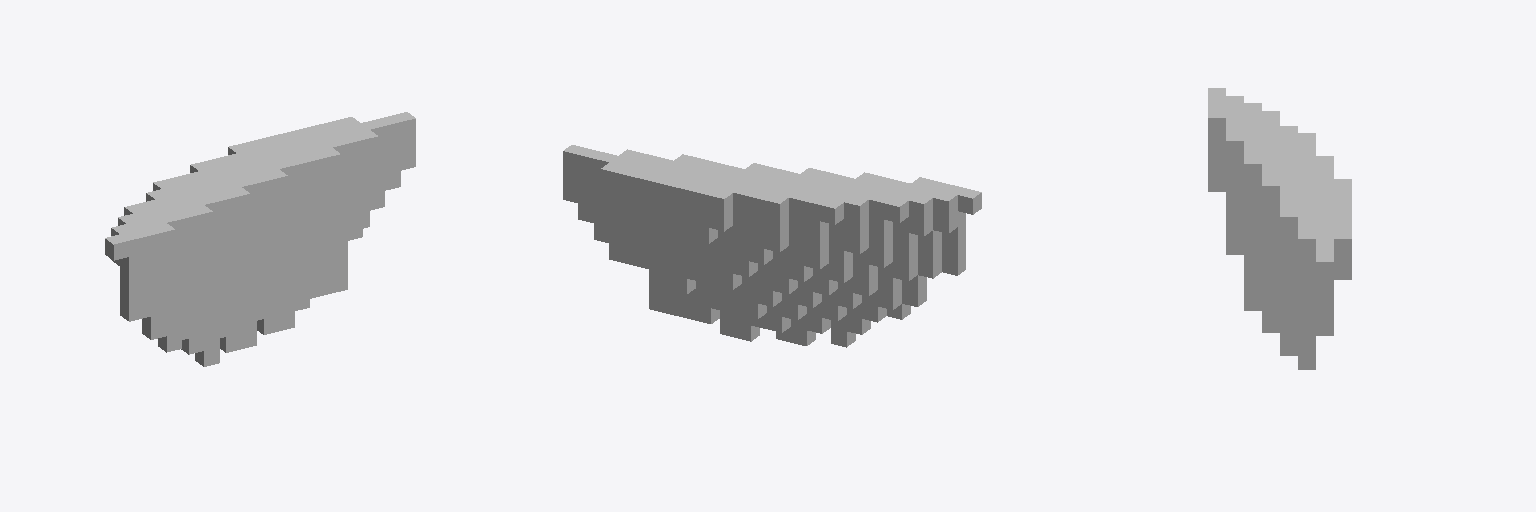
The model's file is огненый осколок 5.obj.
The picture shows the model from 3 angles: view 1: azimuth 30°, elevation 25°; view 2: azimuth 150°, elevation 25°; view 3: azimuth 270°, elevation 25°; orthographic projection.
Parts seen in each view (by area): view 1: object 1; view 2: object 1; view 3: object 1.
Part boxes in pixels (bbox=[...]): object 1: bbox=[105, 112, 415, 366]; object 1: bbox=[563, 145, 981, 347]; object 1: bbox=[1208, 88, 1351, 369].
Bounding box in the file's own units: 2.3 × 1 × 0.8.